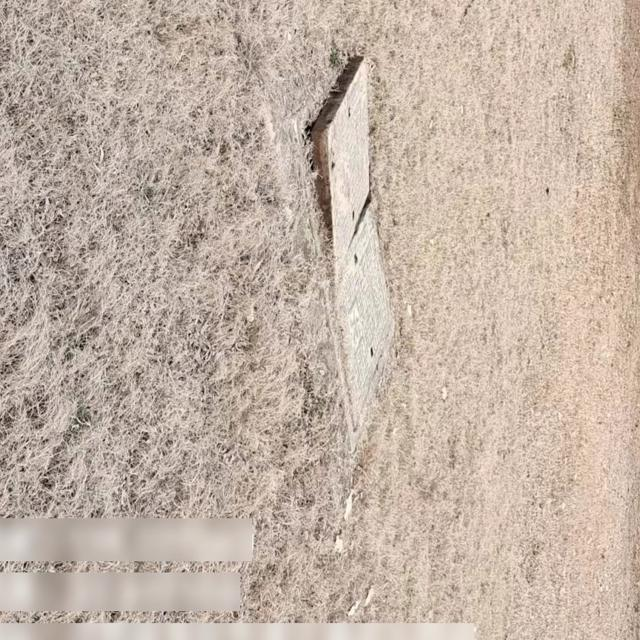uncovered: (303, 57, 403, 459)
